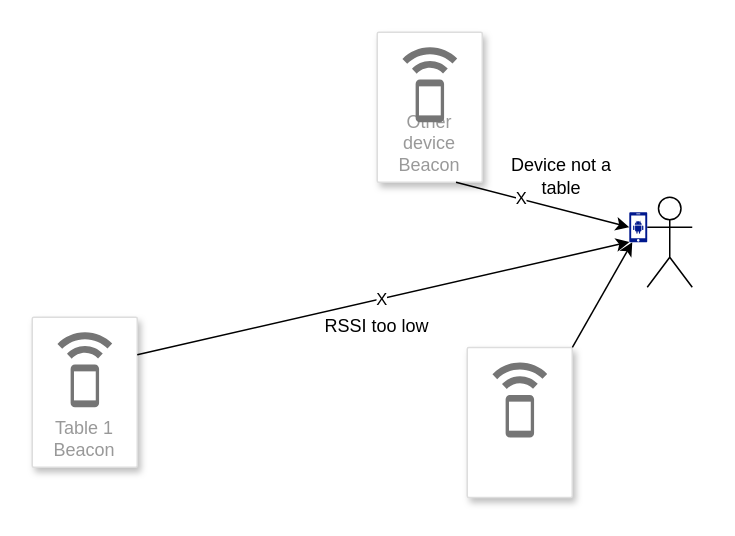
This 735x536 diagram has some shape labels left out. The shapes that lost their labels are listed below. From the top down, each one's centre as x and y in pixels, then its label:
pixel 669 241: Customer
pixel 520 424: Table 2 Beacon
